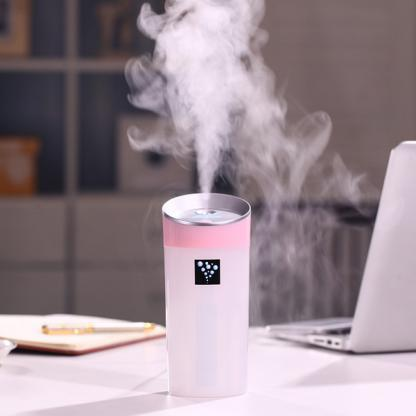smoke: (138, 0, 278, 187)
